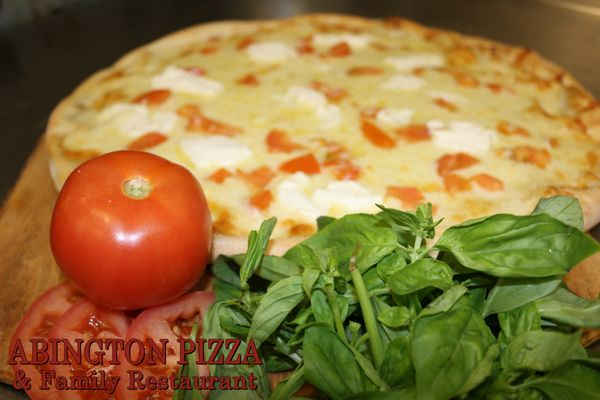steak: (50, 150, 213, 311)
